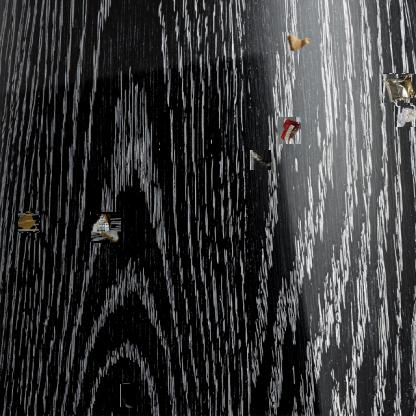dirty: (382, 73, 416, 103), (90, 212, 122, 242), (277, 116, 301, 144), (285, 32, 310, 54), (394, 106, 416, 128), (250, 150, 271, 170)
liquid: (18, 212, 40, 233), (120, 383, 135, 407)
